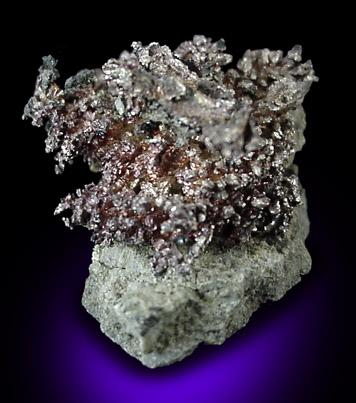silver: (23, 35, 318, 272)
